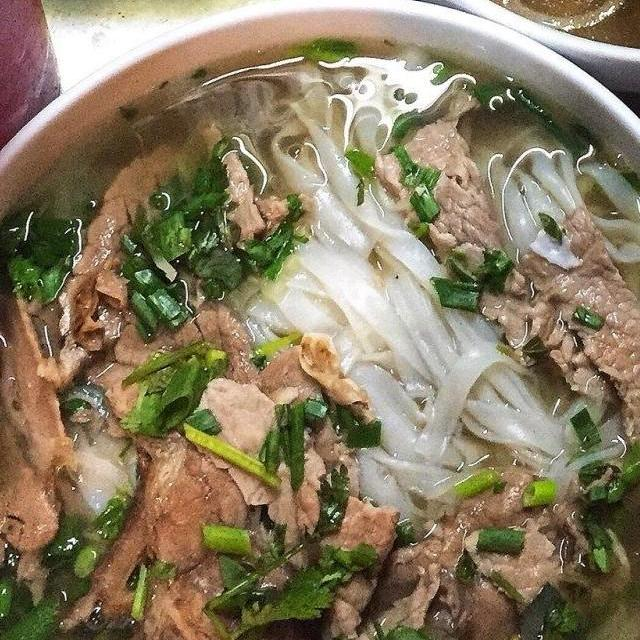banh pho: (223, 230, 626, 514), (253, 51, 437, 258), (473, 101, 640, 272)
pho bo: (0, 14, 640, 640)
thit bo: (26, 104, 272, 390), (463, 200, 640, 464), (93, 399, 281, 640), (222, 324, 382, 582), (367, 455, 572, 640), (362, 72, 520, 286), (0, 263, 75, 580)
